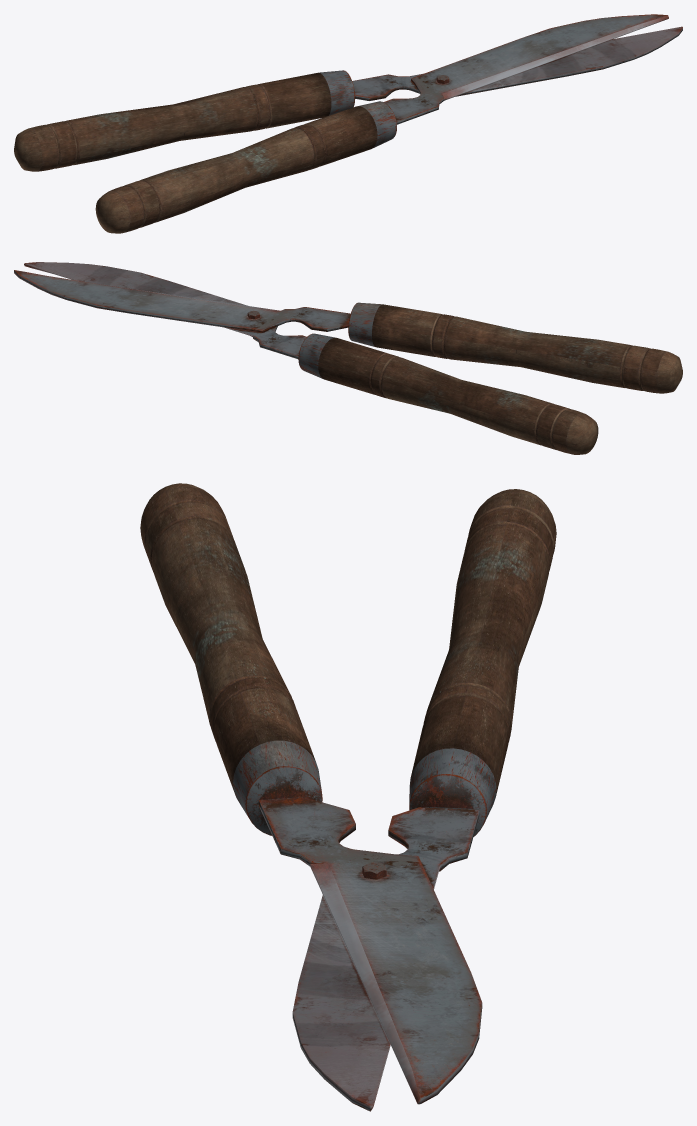
File: old_rusty_scissors.glb
3 views of the same model, one above another, from view 1: azimuth 30°, elevation 25°; view 2: azimuth 150°, elevation 25°; view 3: azimuth 270°, elevation 25° (orthographic). The views are drawn at different scales.
Visible parts, largest first — view 1: Cylinder.002 (×2), Cylinder.001 (×2), Cube (×2), Cube.001; view 2: Cylinder.001 (×2), Cylinder.002 (×2), Cube, Cube.001; view 3: Cube (×2), Cylinder.001 (×2), Cylinder.002 (×2), Cube.001.
Boxes of the visible parts, box(x1,y1,x2,y2) form: Cylinder.002 (×2): box(14, 70, 355, 171); Cylinder.001 (×2): box(95, 101, 396, 233); Cube (×2): box(384, 14, 668, 124); Cube.001: box(352, 26, 682, 100); Cylinder.001 (×2): box(348, 302, 682, 393); Cylinder.002 (×2): box(298, 333, 598, 454); Cube: box(14, 270, 350, 332); Cube.001: box(24, 262, 306, 358); Cube (×2): box(258, 797, 482, 1104); Cylinder.001 (×2): box(140, 483, 322, 835); Cylinder.002 (×2): box(409, 489, 556, 836); Cube.001: box(292, 807, 479, 1111).
Bounding box in the file's own units: 2 × 0.1297 × 0.5925.
5 materials, 5 textured.
